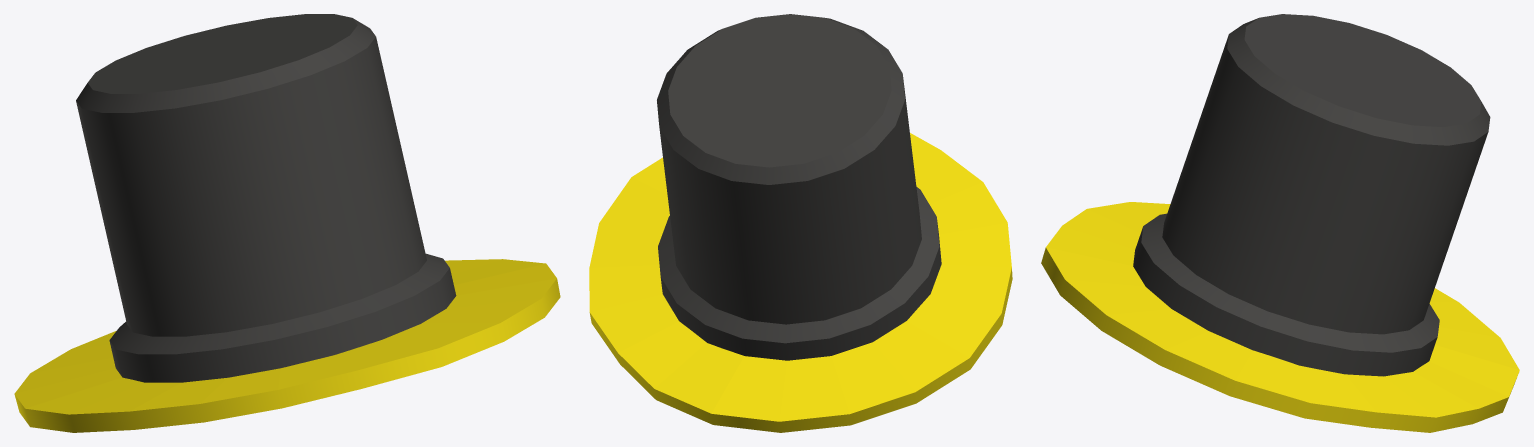
File: hat4.fbx
3 renders of one model, left to right at view 1: azimuth 30°, elevation 25°; view 2: azimuth 150°, elevation 25°; view 3: azimuth 270°, elevation 25°, orthographic. The views are drawn at different scales.
Parts seen in each view (by area): view 1: Hat2; view 2: Hat2; view 3: Hat2.
Part boxes in pixels (bbox=[...]): Hat2: bbox=[14, 14, 560, 432]; Hat2: bbox=[589, 14, 1012, 432]; Hat2: bbox=[1041, 14, 1519, 432].
Size of the model in its own units: 22.72 by 17.99 by 22.22.
